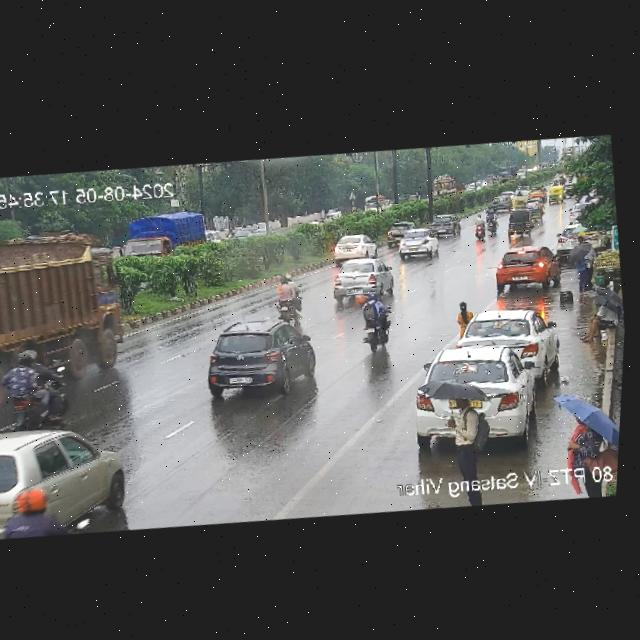car: (0, 414, 136, 543), (190, 311, 322, 413), (411, 336, 539, 417), (459, 301, 562, 374), (488, 240, 565, 295), (325, 253, 394, 304), (325, 231, 375, 263), (553, 223, 603, 253), (395, 233, 443, 264), (428, 211, 464, 239), (504, 207, 537, 237), (382, 218, 419, 242), (564, 201, 587, 225), (544, 183, 565, 205), (492, 195, 512, 209), (511, 195, 527, 211), (561, 183, 574, 196), (532, 186, 546, 197), (500, 189, 515, 199), (551, 172, 562, 183), (521, 184, 531, 194)
motorcycle: (0, 346, 70, 412), (0, 490, 87, 543), (356, 286, 393, 350), (265, 272, 308, 326), (469, 211, 489, 240), (525, 196, 546, 220), (483, 206, 501, 232), (558, 174, 566, 184)
person: (437, 378, 494, 478), (572, 296, 623, 345), (561, 407, 602, 465), (567, 234, 606, 293), (452, 298, 475, 332)
truck: (0, 237, 129, 384), (104, 202, 212, 267), (427, 170, 468, 202), (360, 189, 392, 213), (492, 163, 518, 187)
